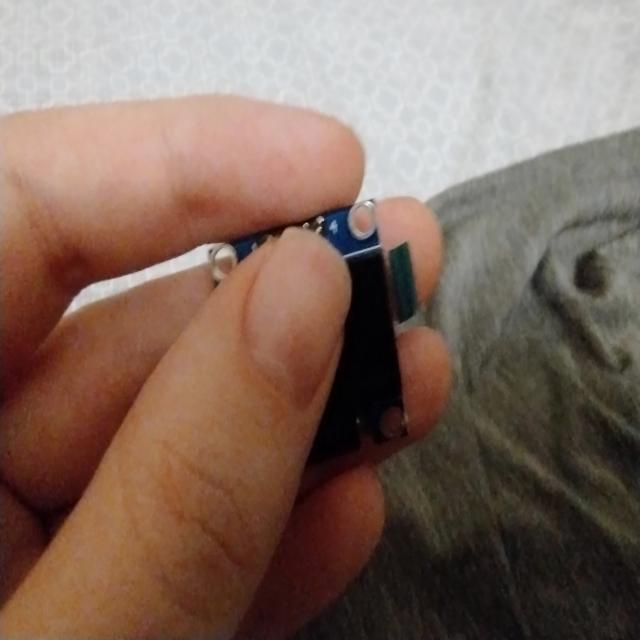oled: (206, 194, 424, 467)
